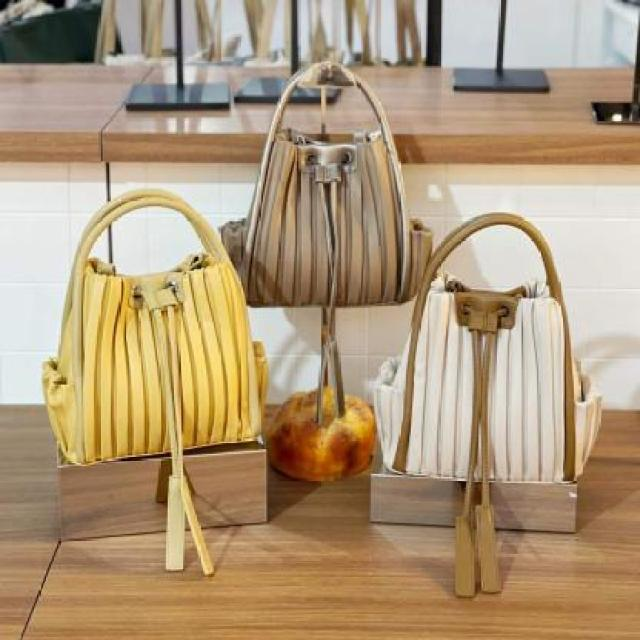Bag: (356, 138, 610, 616), (34, 178, 289, 594), (219, 29, 426, 337)
